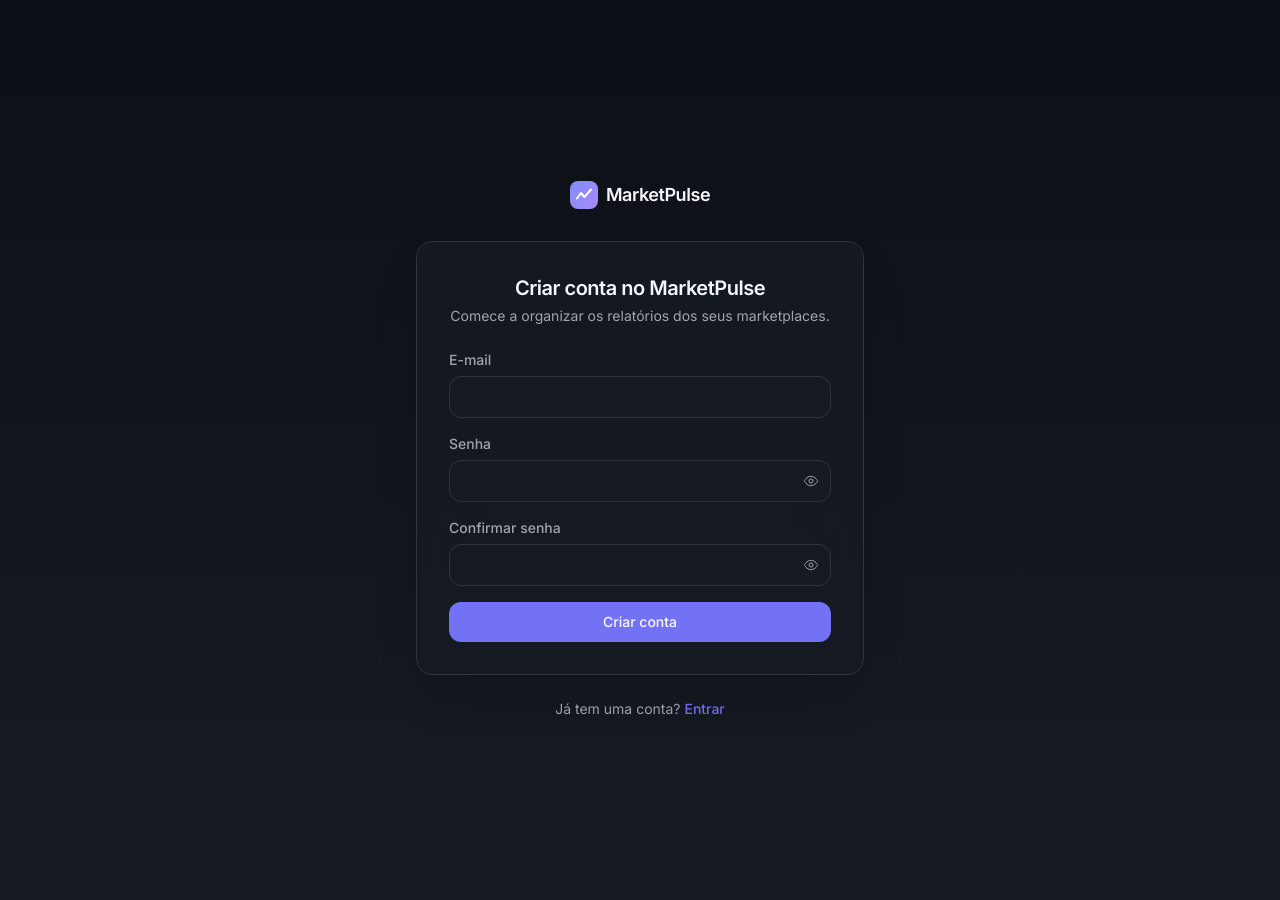
Test case: RegisterPage › registers, shows a success toast and navigates to /app on success
Type "user@example.com" into the field labelled "E-mail". click: (640, 397)
box: [449,376,831,418]
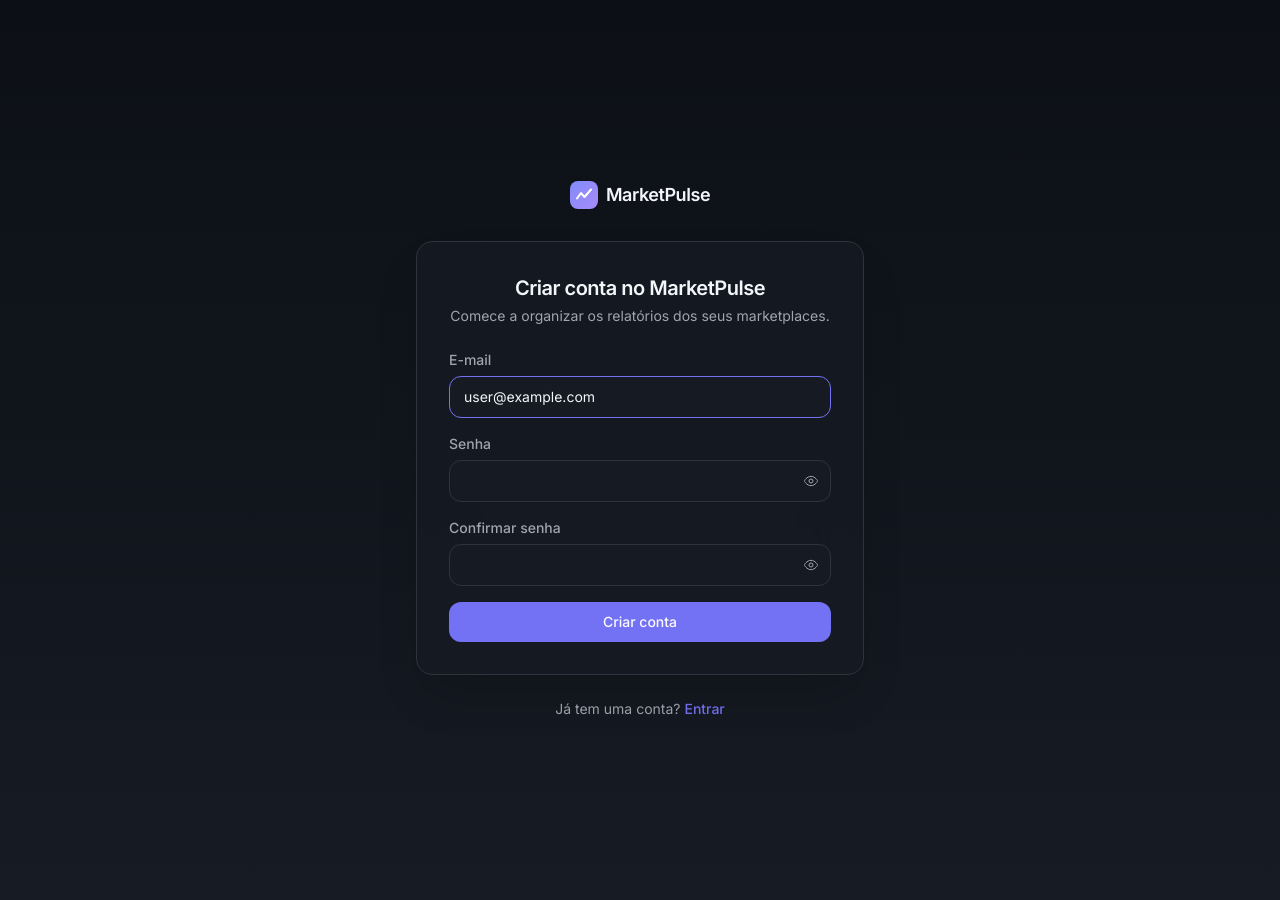
Type "Sup3rSecret!" into the password field labelled "Senha". click: (640, 481)
box: [449,460,831,502]
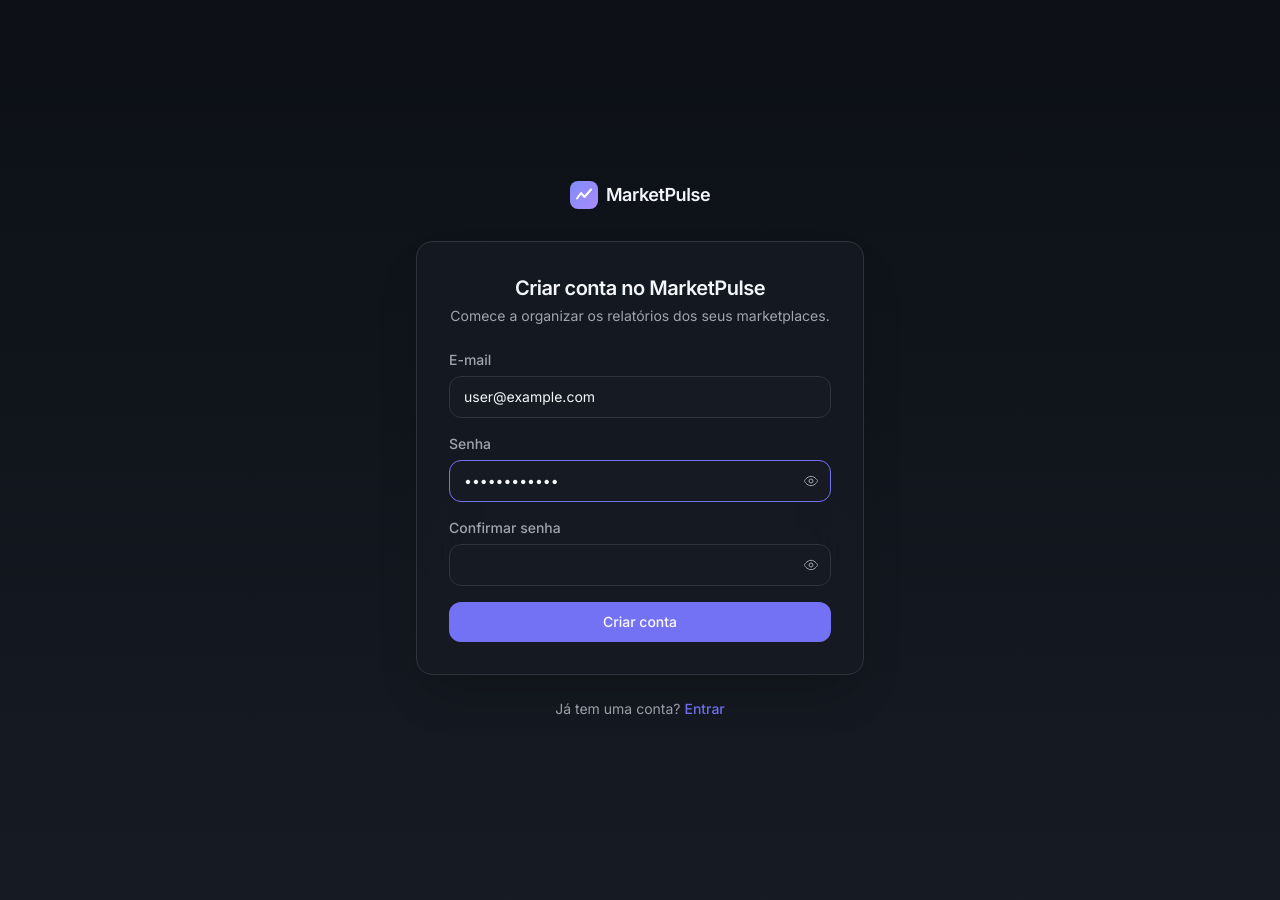
Type "Sup3rSecret!" into the password field labelled "Confirmar senha". click: (640, 565)
box: [449,544,831,586]
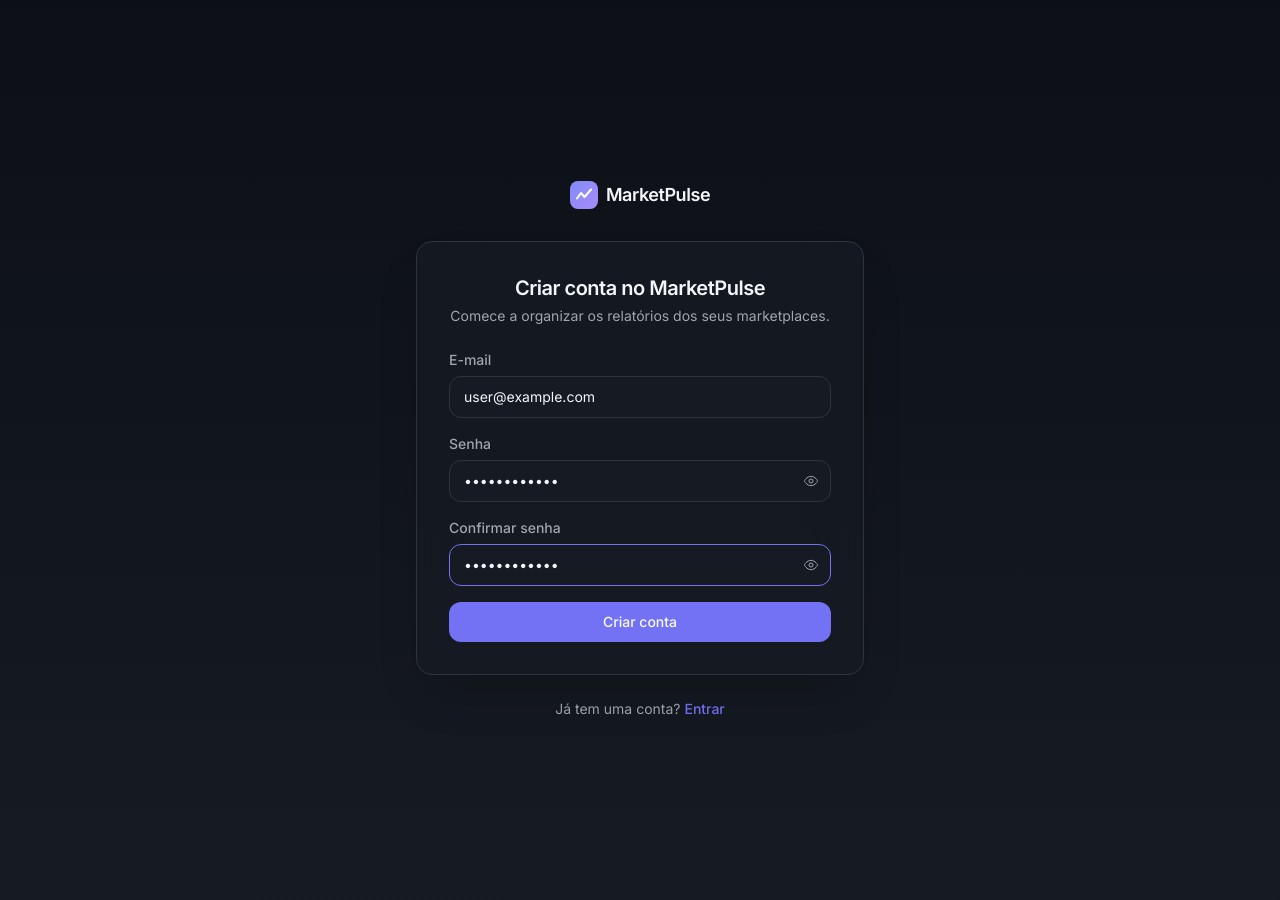
Click the button "Criar conta". click: click(640, 622)
box: [449,602,831,642]
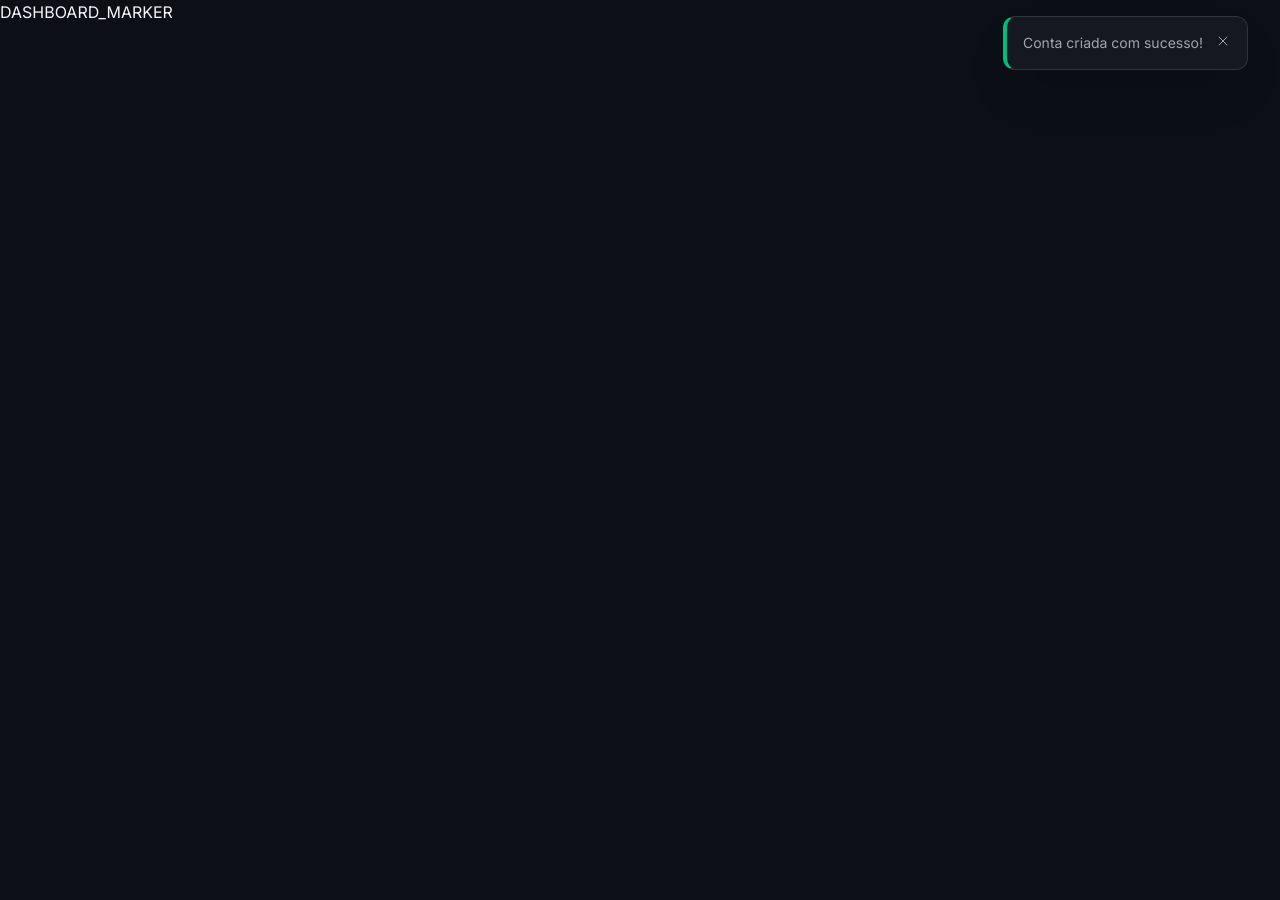
Now the text "Conta criada com sucesso!" is shown, box [1023,33,1203,53]
Now the text "DASHBOARD_MARKER" is shown, box [0,2,173,22]
